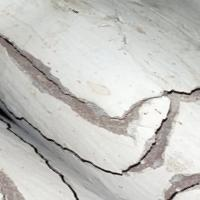crack: (0, 25, 199, 199)
